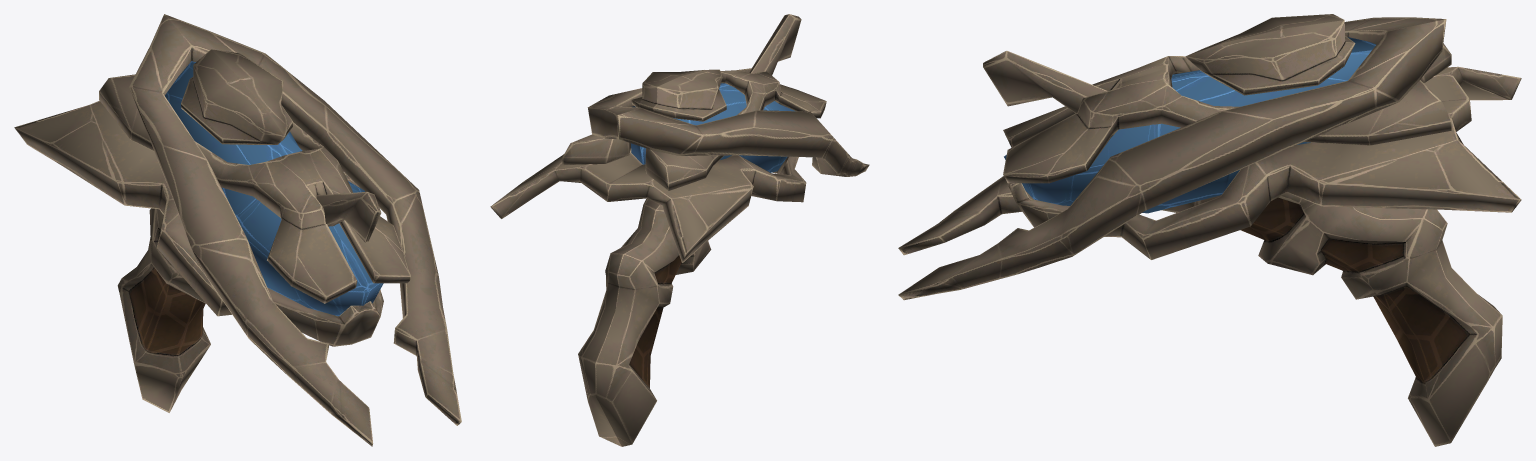
The model's file is gshahz.fbx.
3 views of the same model, side by side, from view 1: azimuth 30°, elevation 25°; view 2: azimuth 150°, elevation 25°; view 3: azimuth 270°, elevation 25° (orthographic). The views are drawn at different scales.
Parts seen in each view (by area): view 1: node_id30; view 2: node_id30; view 3: node_id30.
Boxes of the visible parts, box(x1,y1,x2,y2) form: node_id30: box(14, 14, 461, 446); node_id30: box(490, 14, 869, 446); node_id30: box(898, 14, 1521, 446).
Bounding box in the file's own units: 0.00323 × 0.00529 × 0.00699.
1 material, 1 textured.
